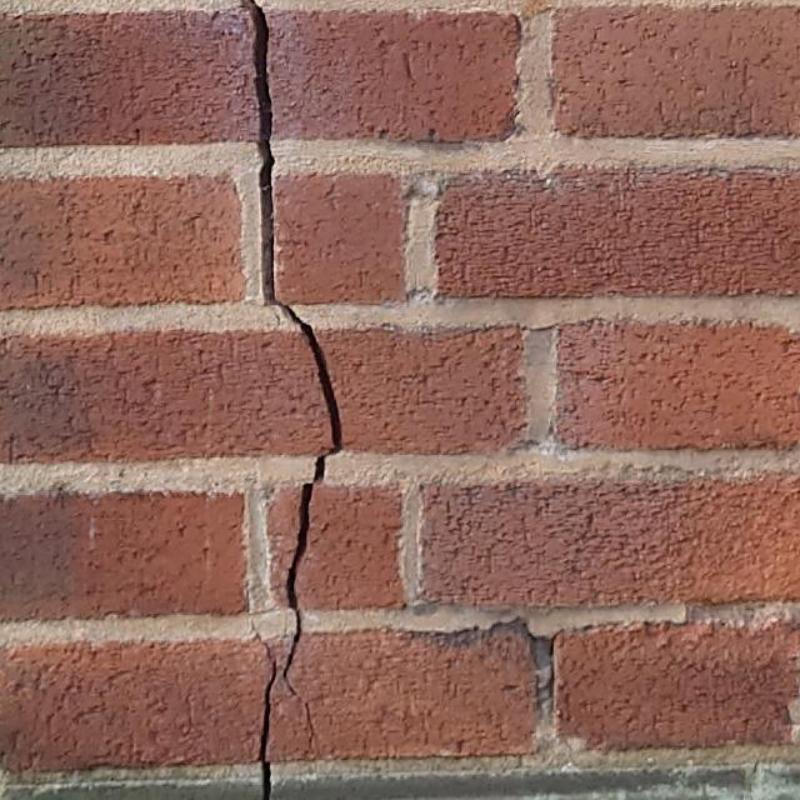pothole: (247, 0, 342, 752), (251, 618, 277, 799), (550, 628, 566, 698), (521, 621, 538, 642)
